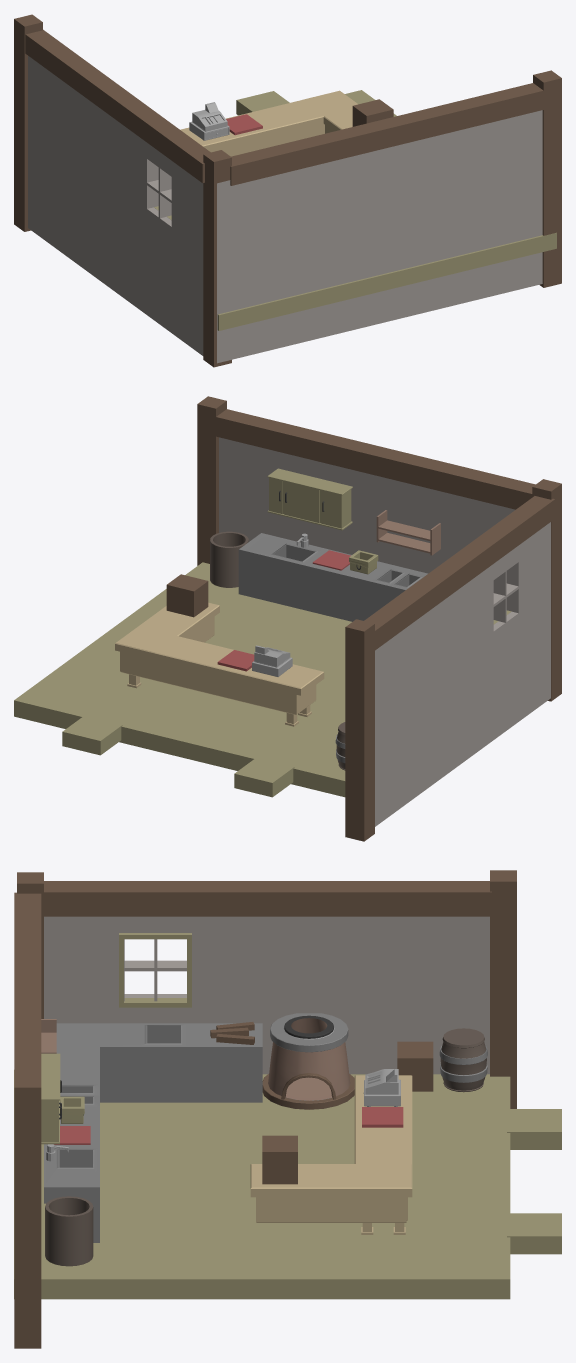
Rendered from myo_Early2.fbx.
The picture shows the model from 3 angles, top to bottom: view 1: azimuth 30°, elevation 25°; view 2: azimuth 150°, elevation 25°; view 3: azimuth 270°, elevation 25°; orthographic projection. The views are drawn at different scales.
Visible parts, largest first — view 1: polySurface4, polySurface23, polySurface43, polySurface44, Ground, main_table, polySurface8, polySurface7, polySurface5, store, close, polySurface57 (+1 smaller); view 2: polySurface23, Ground, polySurface4, main_table, polySurface43, polySurface44, polySurface5, polySurface52, chest, polySurface56, polySurface8, polySurface7 (+7 smaller); view 3: Ground, polySurface23, polySurface44, main_table, polySurface8, polySurface45, polySurface58, polySurface5, polySurface50, polySurface43, polySurface13, polySurface52 (+15 smaller).
Part boxes in pixels (x1,y1,x2,y2): polySurface4: [217, 110, 542, 363]; polySurface23: [28, 56, 203, 355]; polySurface43: [230, 83, 550, 185]; polySurface44: [25, 29, 210, 183]; Ground: [217, 90, 556, 330]; main_table: [180, 90, 357, 156]; polySurface8: [533, 70, 561, 287]; polySurface7: [203, 150, 231, 367]; polySurface5: [14, 14, 42, 231]; store: [352, 99, 393, 126]; close: [236, 91, 289, 115]; polySurface57: [192, 110, 227, 131]; polySurface23: [375, 522, 550, 826]; Ground: [14, 562, 351, 797]; polySurface4: [219, 437, 515, 573]; main_table: [115, 602, 324, 726]; polySurface43: [209, 409, 535, 509]; polySurface44: [364, 496, 554, 650]; polySurface5: [345, 619, 374, 841]; polySurface52: [238, 533, 325, 609]; chest: [267, 468, 352, 530]; polySurface56: [303, 549, 392, 621]; polySurface8: [197, 396, 226, 565]; polySurface7: [532, 479, 561, 701]; Ground: [14, 1070, 510, 1299]; polySurface23: [44, 916, 489, 1074]; polySurface44: [44, 881, 491, 916]; main_table: [250, 1075, 412, 1234]; polySurface8: [14, 1076, 41, 1348]; polySurface45: [262, 1013, 354, 1109]; polySurface58: [100, 1023, 187, 1102]; polySurface5: [490, 870, 516, 1108]; polySurface50: [187, 1023, 262, 1102]; polySurface43: [14, 892, 41, 1076]; polySurface13: [45, 1196, 93, 1266]; polySurface52: [44, 1148, 99, 1242].
Size of the model in its own units: 1159 by 649 by 1234.
